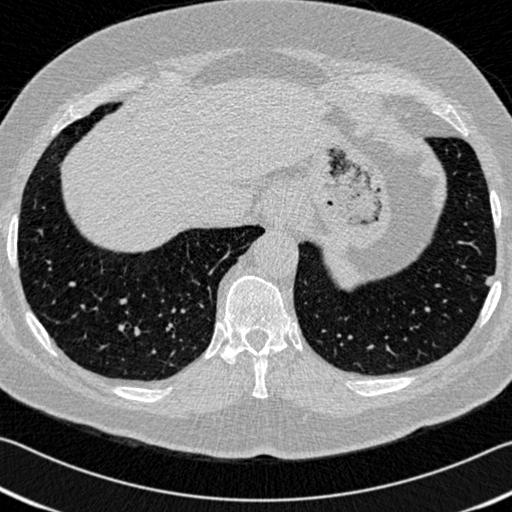nodule: (482, 274, 496, 288)
